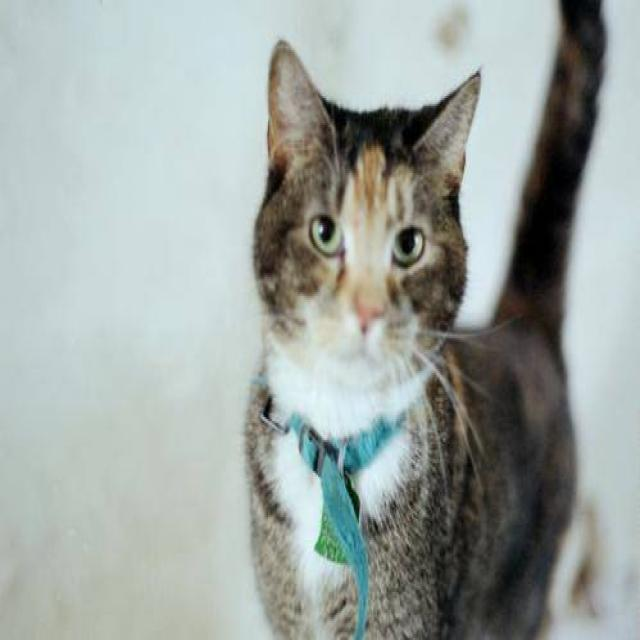cat: (241, 0, 608, 638)
